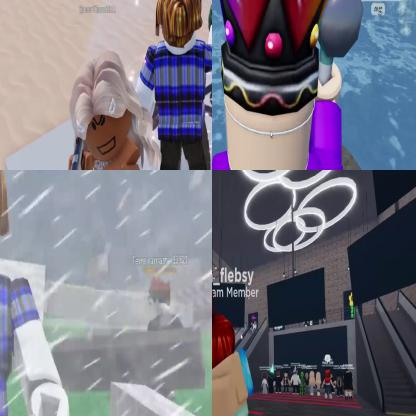Roblox-Avatar: (213, 1, 351, 170), (1, 171, 74, 416), (137, 1, 212, 170), (68, 51, 163, 170), (213, 288, 256, 416), (148, 276, 185, 332), (323, 370, 338, 401), (291, 367, 303, 396), (344, 372, 356, 401), (282, 372, 292, 396), (275, 371, 284, 394), (262, 372, 270, 396), (300, 372, 307, 397), (310, 372, 317, 396), (317, 372, 323, 397)
